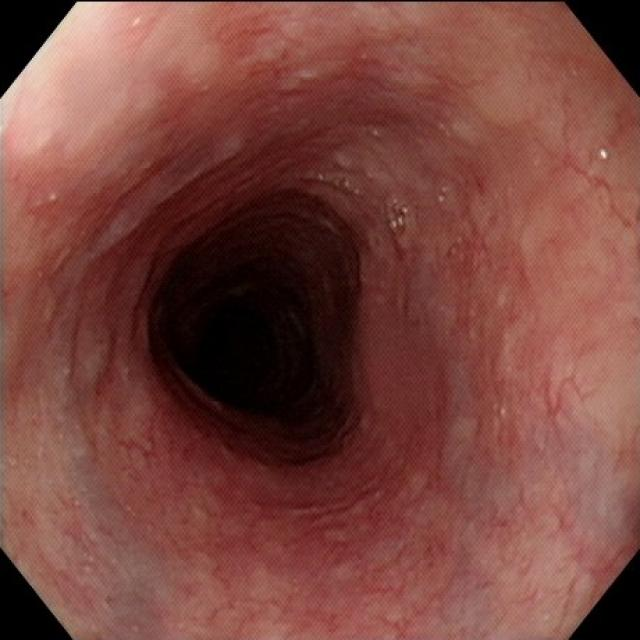E: (172, 204, 356, 436)
T: (387, 199, 412, 238)
